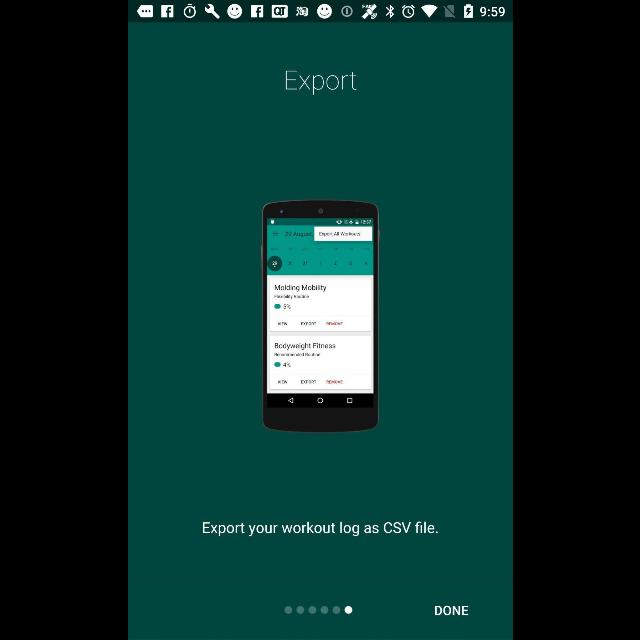image: (260, 200, 378, 432)
pageindicator: (284, 606, 352, 614)
text: (202, 522, 438, 536), (284, 70, 356, 96), (434, 605, 468, 615)
uppertaskbar: (128, 1, 512, 23)
